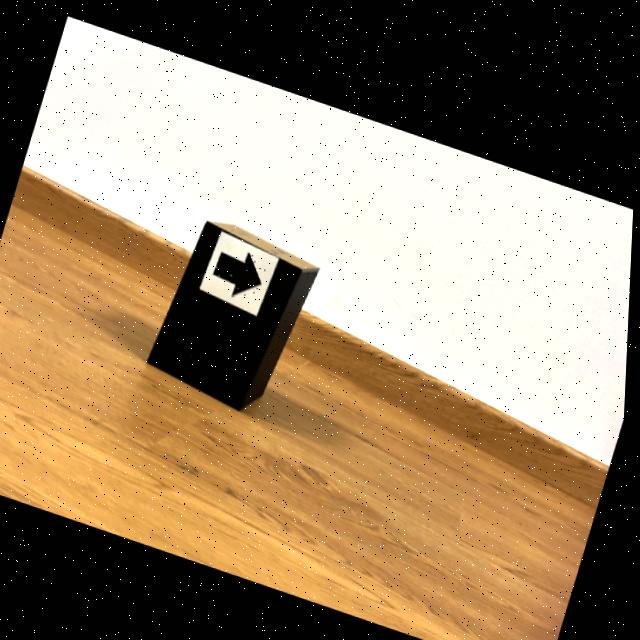RIGHT: (216, 248, 263, 290)
